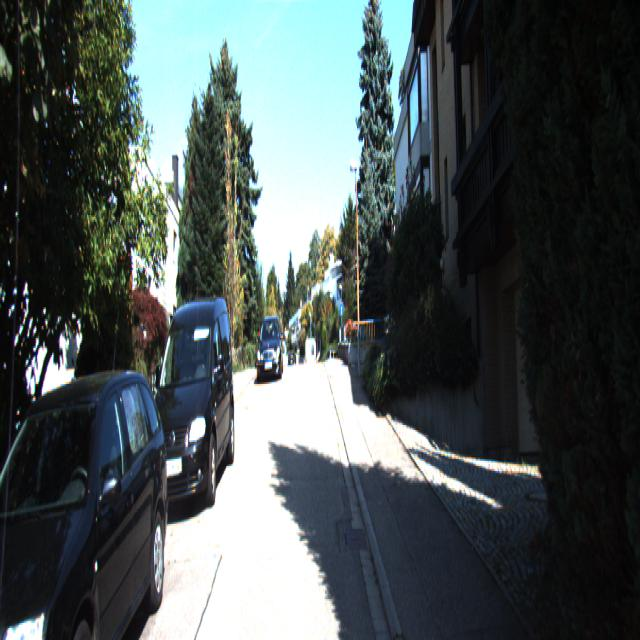Car: (0, 358, 172, 638), (141, 286, 237, 520), (255, 314, 285, 384)
